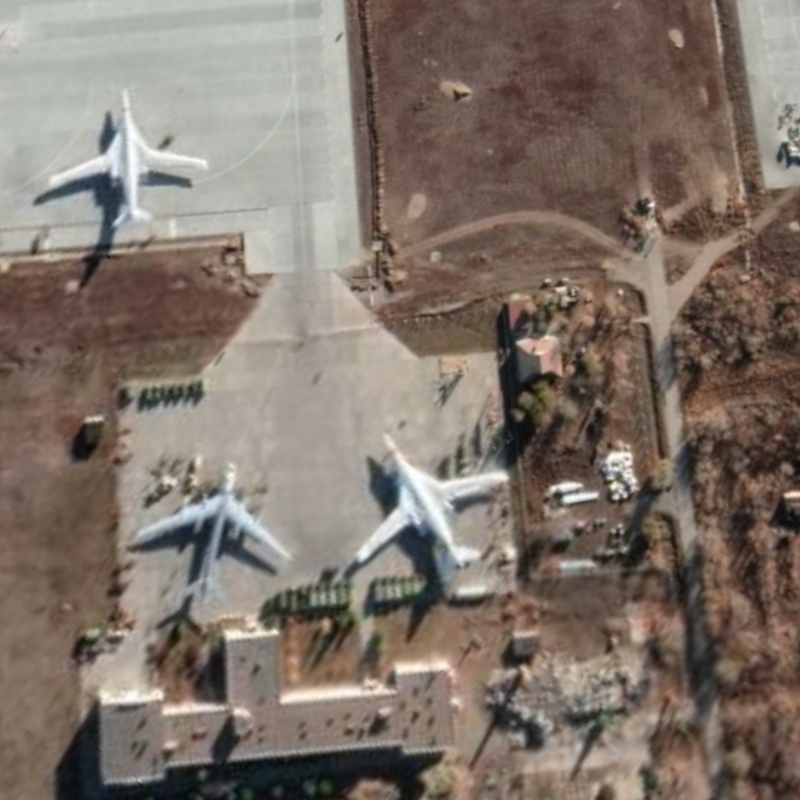A17: (134, 458, 296, 609)
A6: (353, 430, 512, 584), (46, 87, 212, 232)
